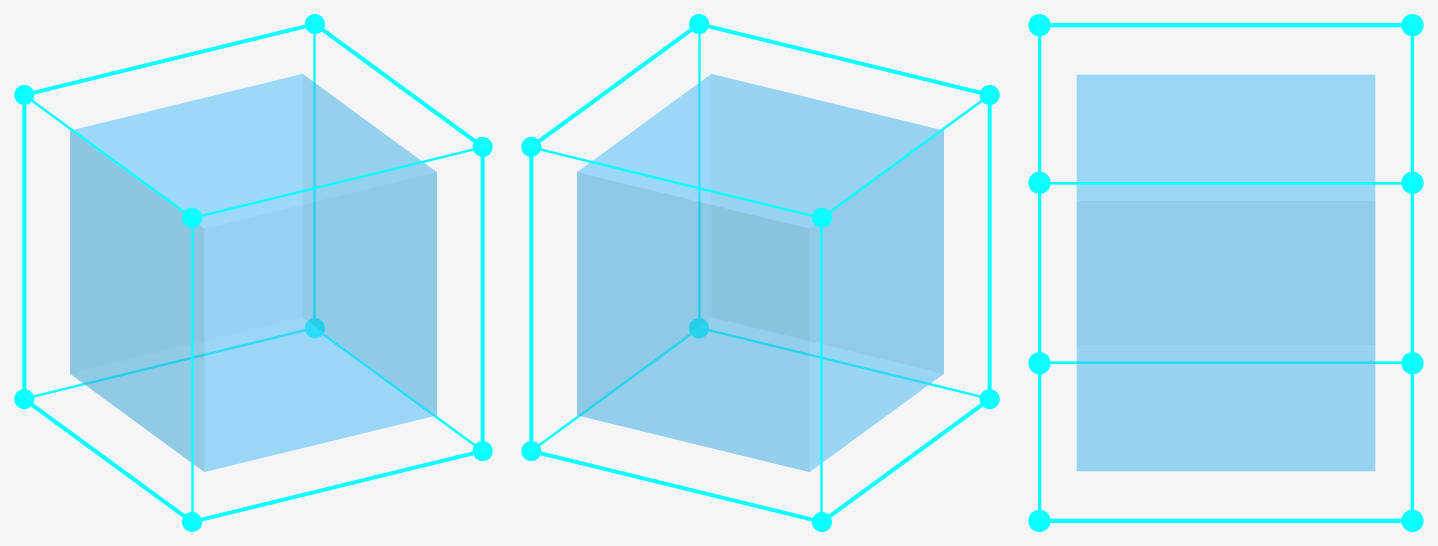
File: fde_login_scene.glb
The picture shows the model from 3 angles, left to right: view 1: azimuth 30°, elevation 25°; view 2: azimuth 150°, elevation 25°; view 3: azimuth 270°, elevation 25°; orthographic projection. The views are drawn at different scales.
Parts seen in each view (by area): view 1: InnerCube, MainCube; view 2: InnerCube, MainCube; view 3: InnerCube, MainCube.
Boxes of the visible parts, x1=… form: InnerCube: x1=70, y1=74, x2=436, y2=471; MainCube: x1=22, y1=24, x2=484, y2=521; InnerCube: x1=577, y1=74, x2=943, y2=471; MainCube: x1=529, y1=24, x2=991, y2=521; InnerCube: x1=1076, y1=74, x2=1375, y2=471; MainCube: x1=1038, y1=23, x2=1413, y2=522.
Bounding box in the file's own units: 2.12 × 2.12 × 2.12.
